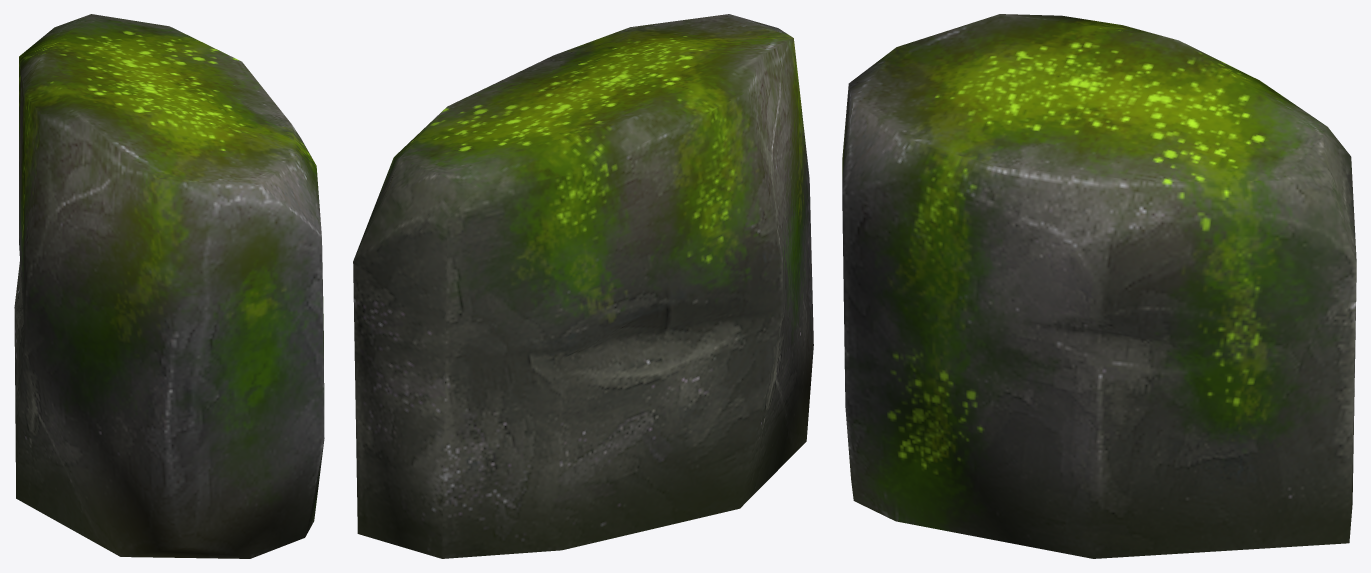
The model's file is rock2.fbx.
3 views of the same model, side by side, from view 1: azimuth 30°, elevation 25°; view 2: azimuth 150°, elevation 25°; view 3: azimuth 270°, elevation 25° (orthographic). The views are drawn at different scales.
Parts seen in each view (by area): view 1: rocks1_1; view 2: rocks1_1; view 3: rocks1_1.
Boxes of the visible parts, box(x1,y1,x2,y2) form: rocks1_1: box(14, 14, 324, 558); rocks1_1: box(353, 14, 813, 558); rocks1_1: box(842, 14, 1356, 558).
Bounding box in the file's own units: 291 × 374 × 415.
